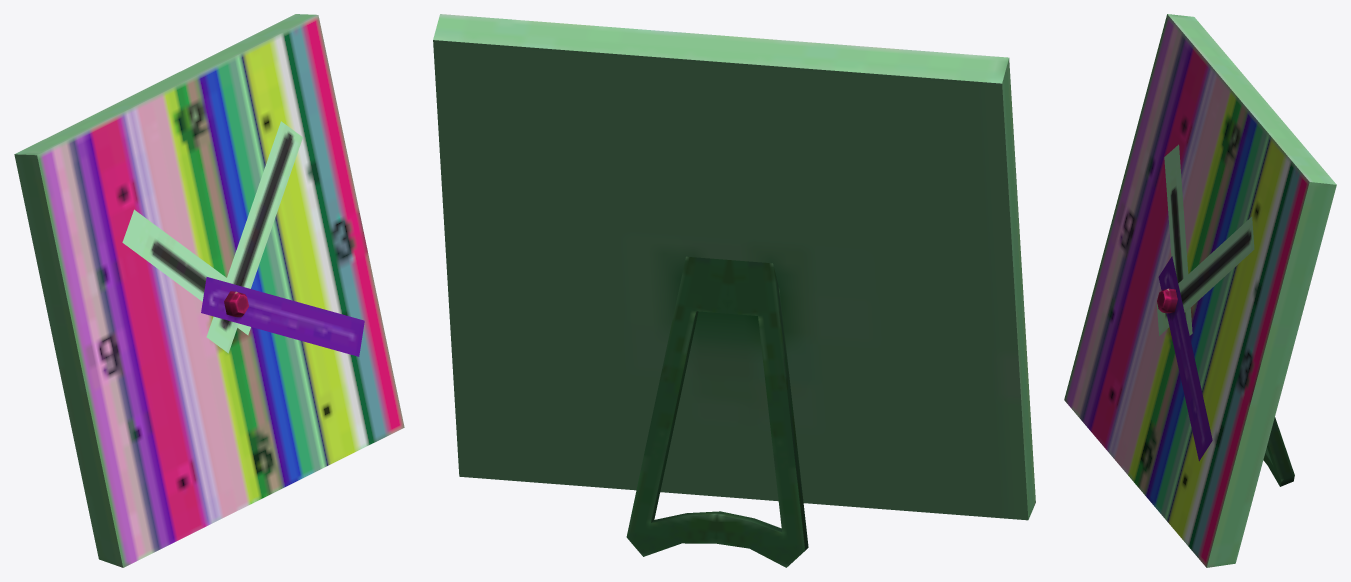
Rendered from furni_0200625_02.FBX.
The picture shows the model from 3 angles, left to right: view 1: azimuth 30°, elevation 25°; view 2: azimuth 150°, elevation 25°; view 3: azimuth 270°, elevation 25°; orthographic projection. The views are drawn at different scales.
Parts seen in each view (by area): view 1: furni_0200625_02; view 2: furni_0200625_02; view 3: furni_0200625_02.
Boxes of the visible parts, x1=… form: furni_0200625_02: x1=14, y1=14, x2=404, y2=567; furni_0200625_02: x1=433, y1=14, x2=1035, y2=567; furni_0200625_02: x1=1064, y1=14, x2=1336, y2=567.
Size of the model in its own units: 31.53 by 29.1 by 19.36.
Materials: 1 (1 with a texture image).
